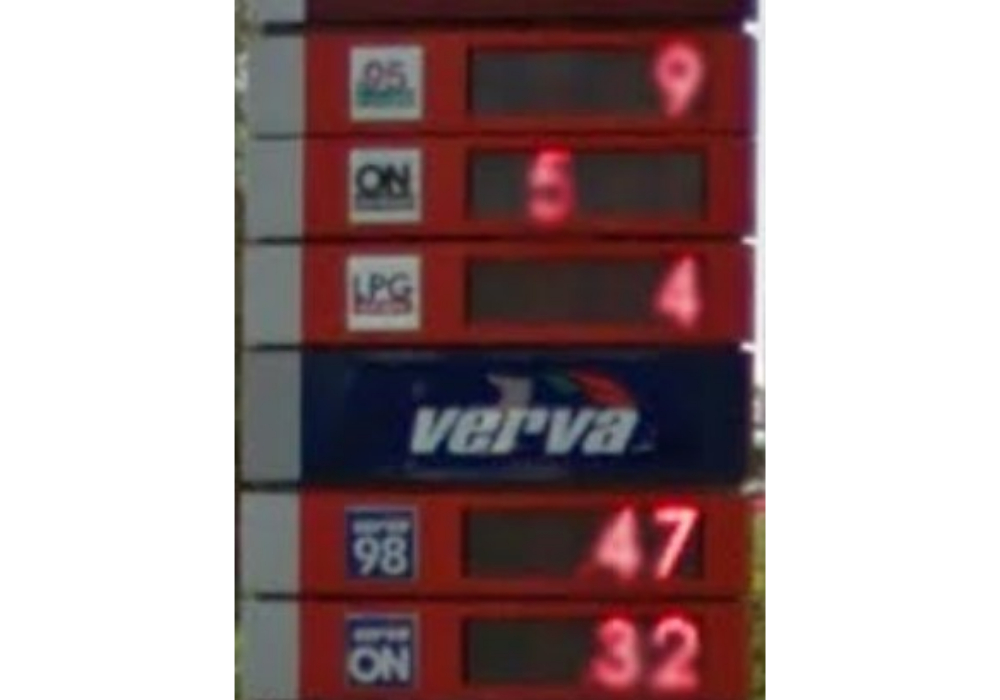LPG: (344, 254, 424, 329)
ON: (344, 613, 421, 689), (347, 144, 422, 222)
PB98: (342, 501, 418, 585)
